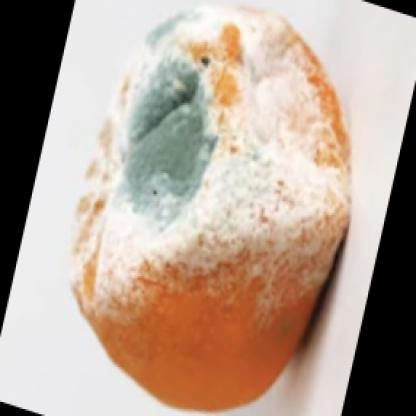rotten: (73, 1, 350, 416)
